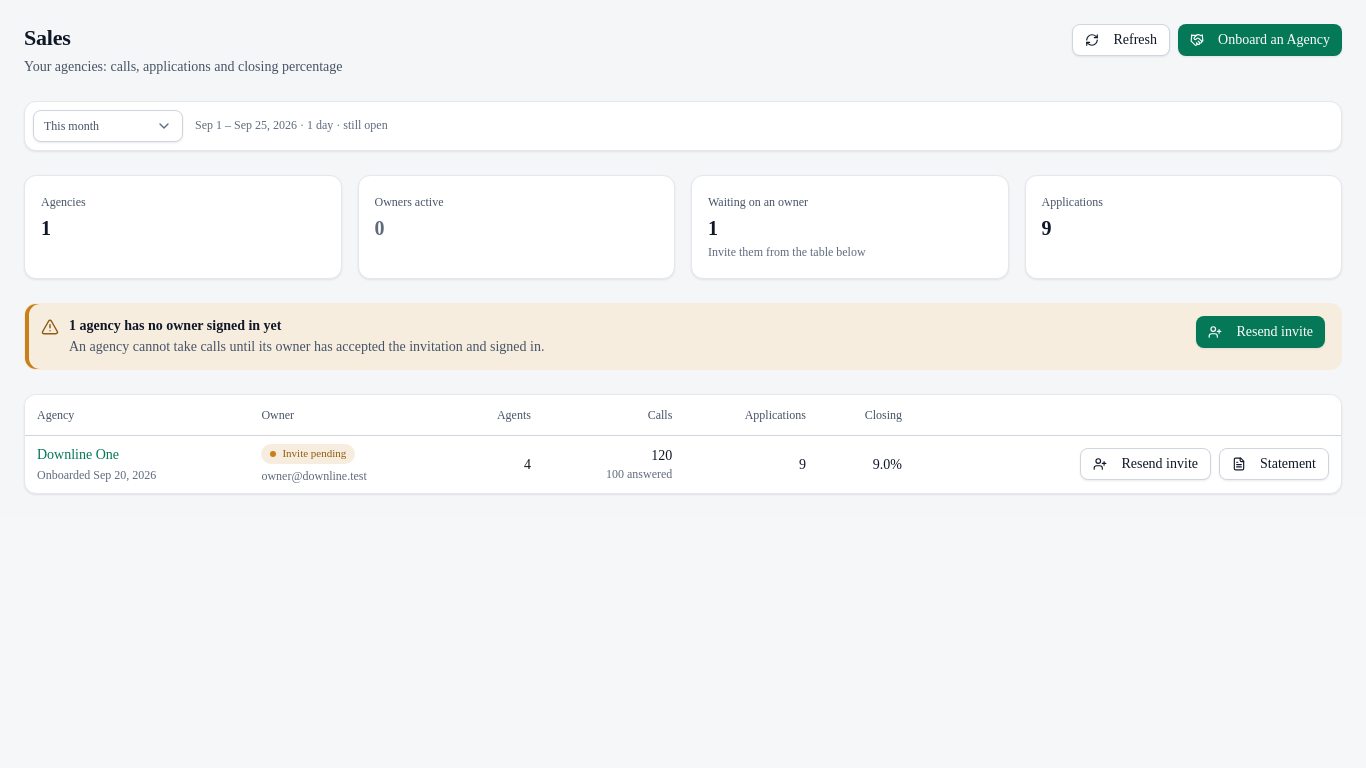
Test: white-label screens › /network/agencies › opens each child agency's statements from its row
Expected: the link "Downline One" is shown, [37,444,119,465]
Step 1. Click the button "Statement" → (1274, 464), box [1219,448,1329,480]
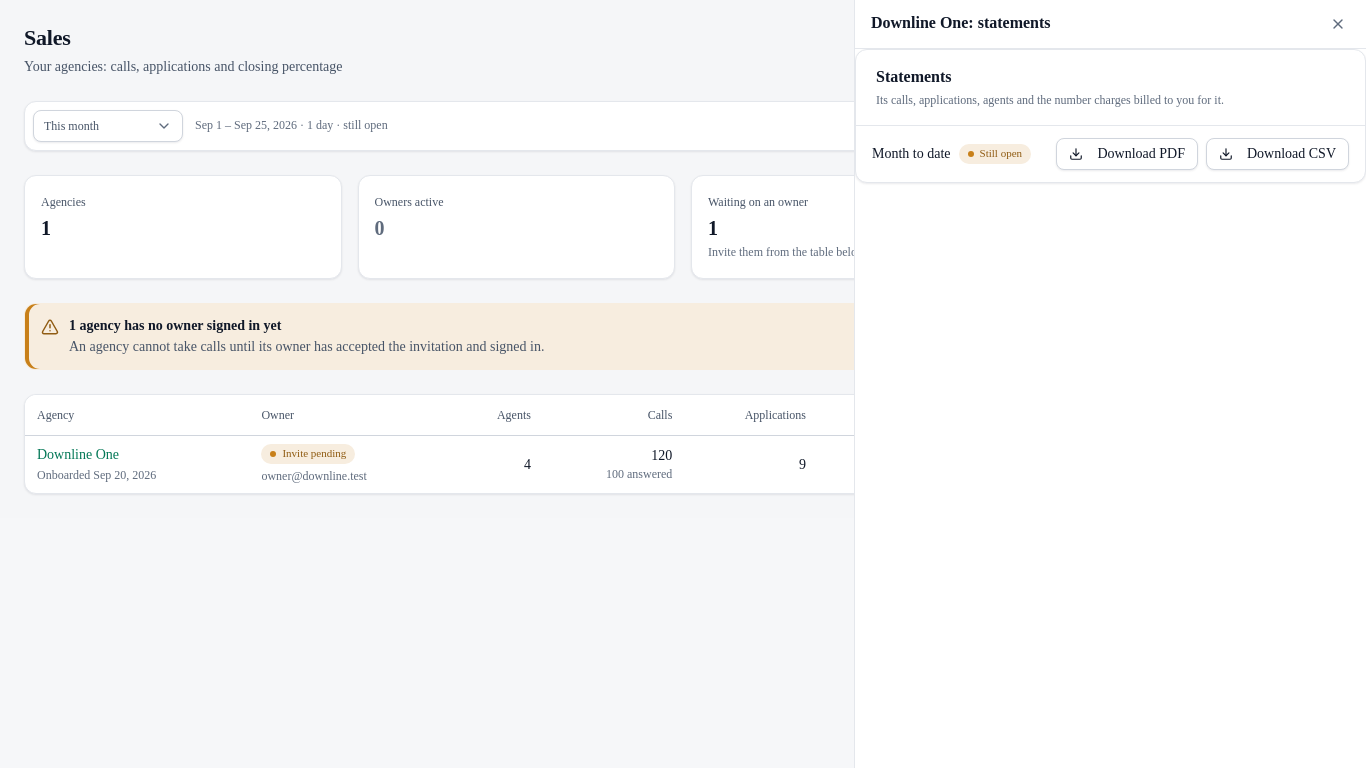
Expected: the text "Month to date" is shown, [872,146,950,161]
